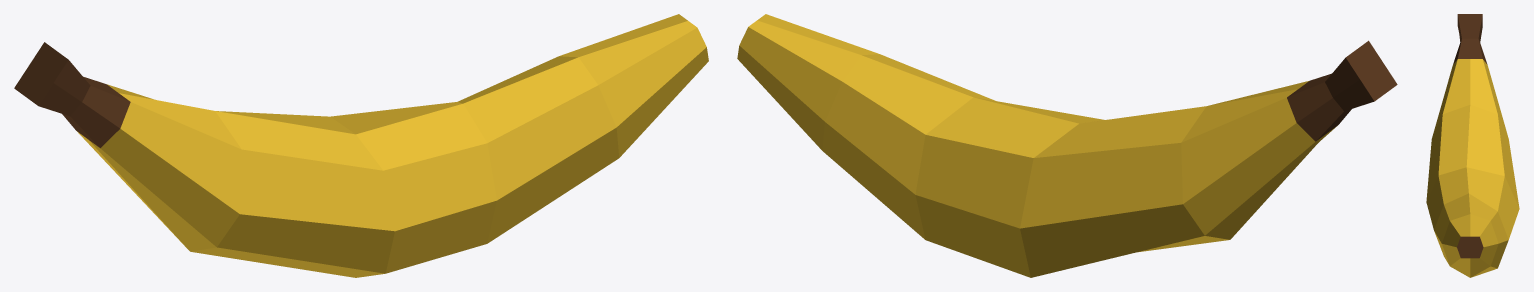
The model's file is Banana.fbx.
3 renders of one model, left to right at view 1: azimuth 30°, elevation 25°; view 2: azimuth 150°, elevation 25°; view 3: azimuth 270°, elevation 25°, orthographic. The views are drawn at different scales.
Parts seen in each view (by area): view 1: Cube, Cube.001; view 2: Cube, Cube.001; view 3: Cube, Cube.001, Cube.002.
Boxes of the visible parts, x1,y1,x2,y2 form: Cube: (77,14,708,277); Cube.001: (14,42,130,148); Cube: (737,14,1337,277); Cube.001: (1287,40,1397,141); Cube: (1426,59,1519,277); Cube.001: (1453,14,1487,64); Cube.002: (1457,236,1483,258).
Bounding box in the file's own units: 2087 × 879 × 486.
